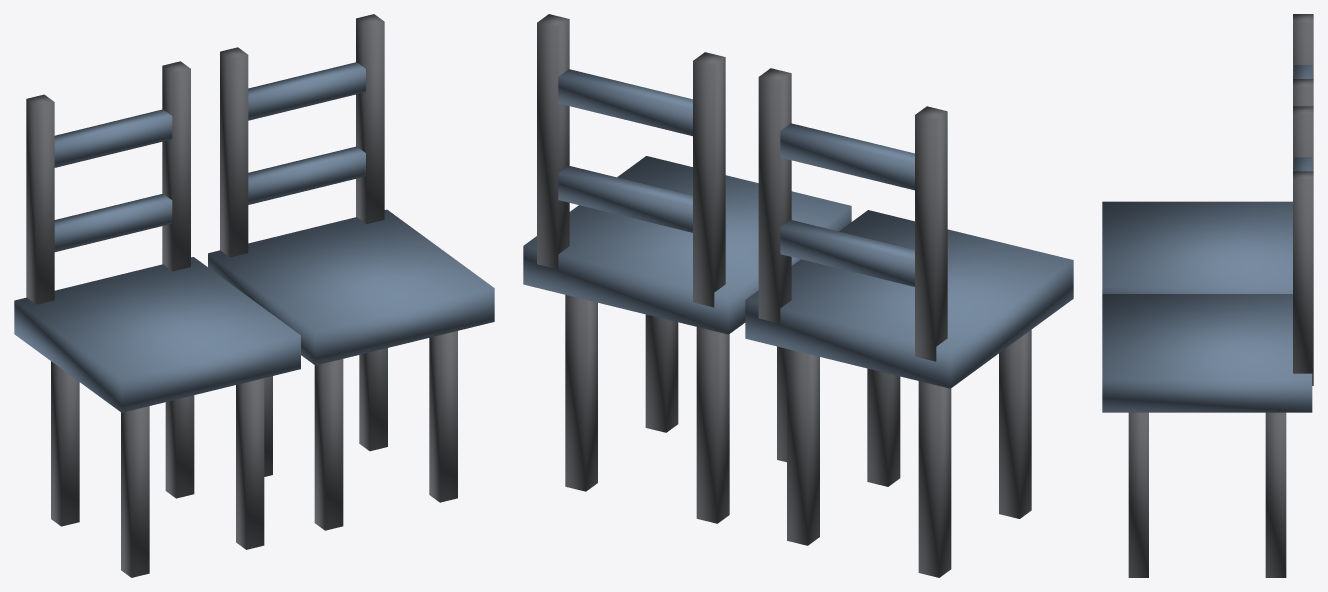
Rendered from waiting_chair__cluster.glb.
3 views of the same model, side by side, from view 1: azimuth 30°, elevation 25°; view 2: azimuth 150°, elevation 25°; view 3: azimuth 270°, elevation 25° (orthographic). The views are drawn at different scales.
Parts seen in each view (by area): view 1: world; view 2: world; view 3: world.
Boxes of the visible parts, left/top/right/bottom form: world: left=14, top=14, right=494, bottom=577; world: left=523, top=14, right=1073, bottom=577; world: left=1102, top=14, right=1313, bottom=577.
Size of the model in its own units: 0.9255 by 0.9782 by 0.4641.
